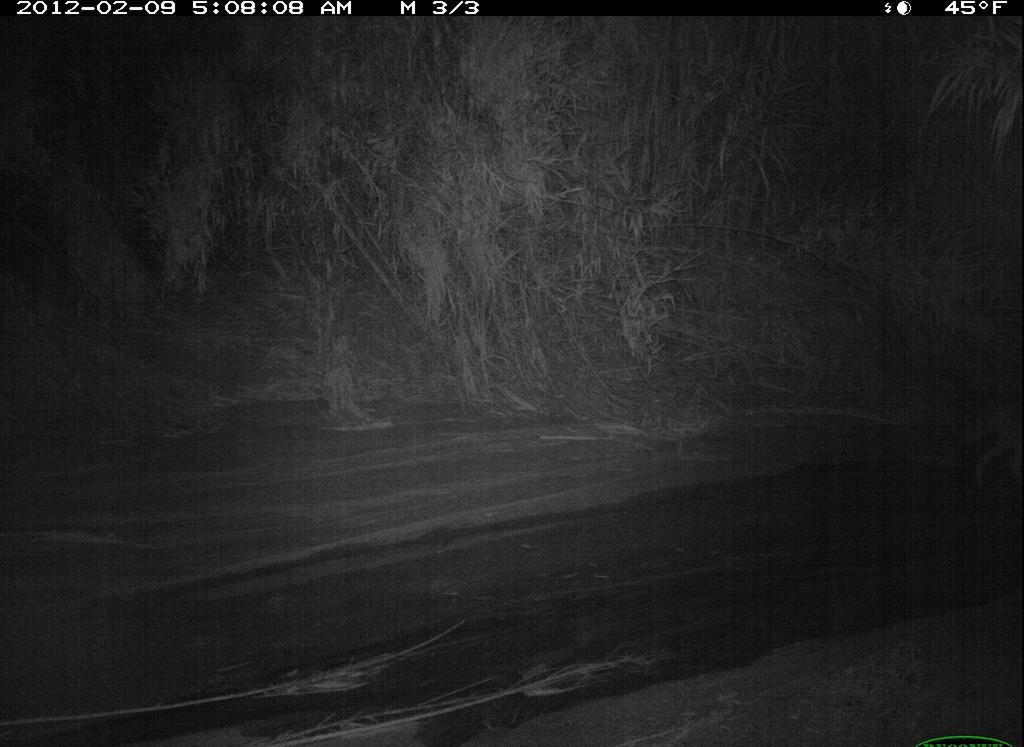coyote: (937, 382, 1022, 495)
